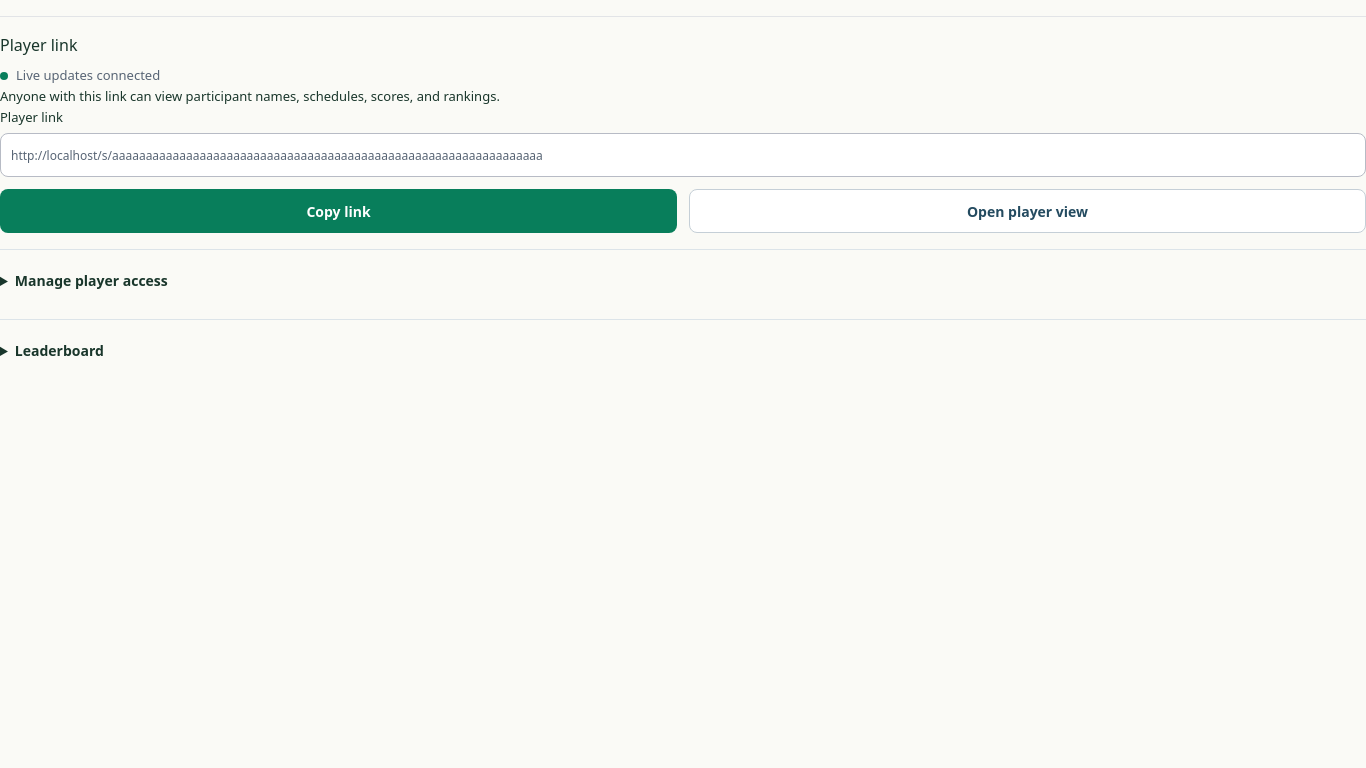
revocation requires confirmation and hides the old link after success
expect the link "Open player view" is shown: met, box top-left (689, 189), bottom-right (1365, 233)
Click the heading "Manage player access" at (91, 281), box top-left (15, 271), bottom-right (168, 290)
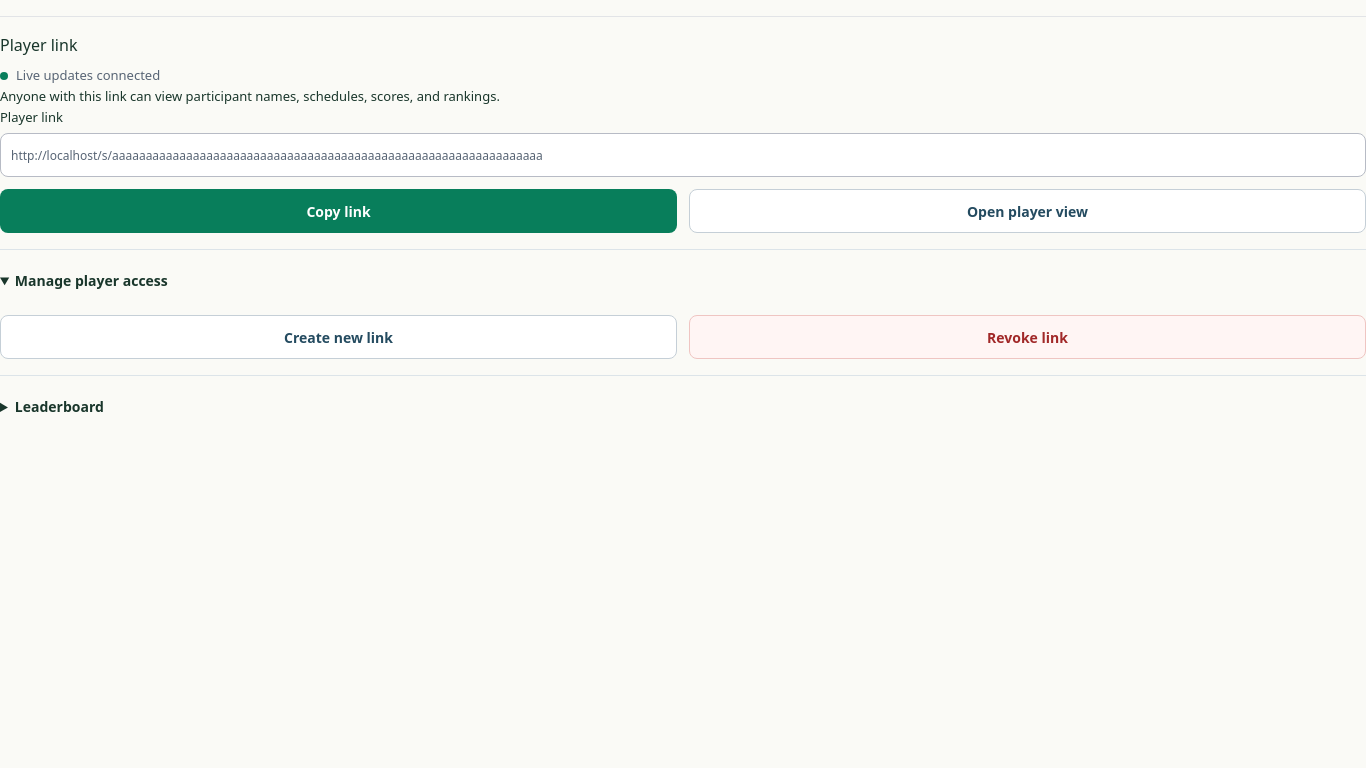
Click the button "Revoke link" at (1028, 337), box top-left (689, 315), bottom-right (1365, 359)
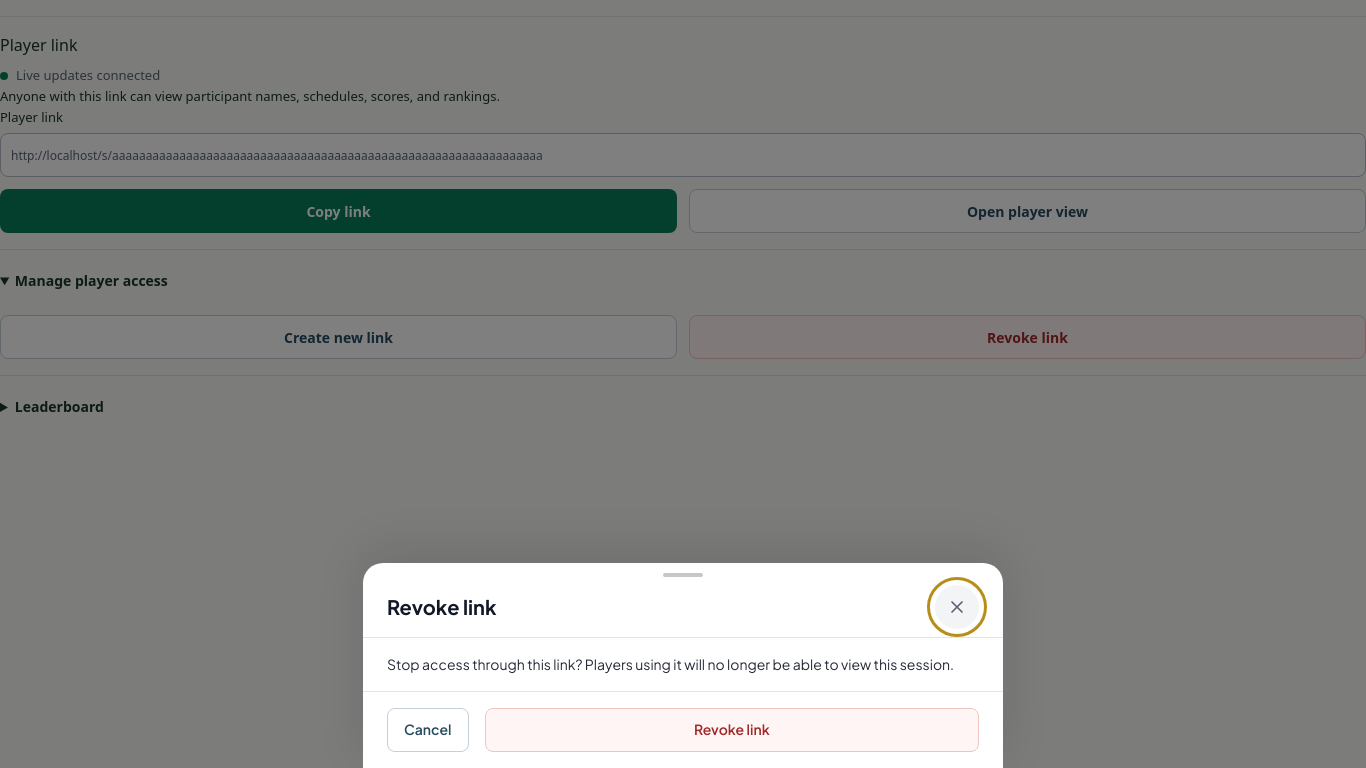
Click the button "Cancel" at (428, 730), box top-left (387, 708), bottom-right (468, 752)
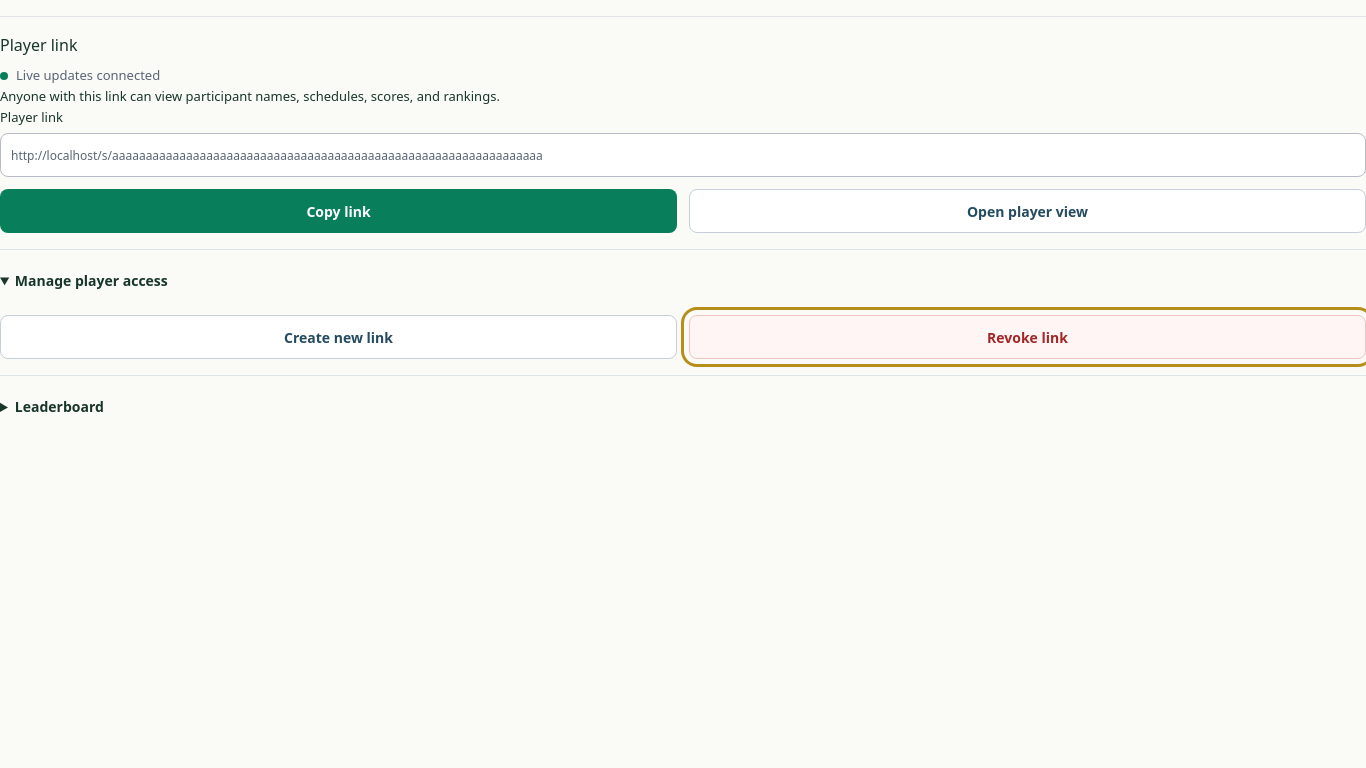
Click the button "Revoke link" at (1028, 337), box top-left (689, 315), bottom-right (1365, 359)
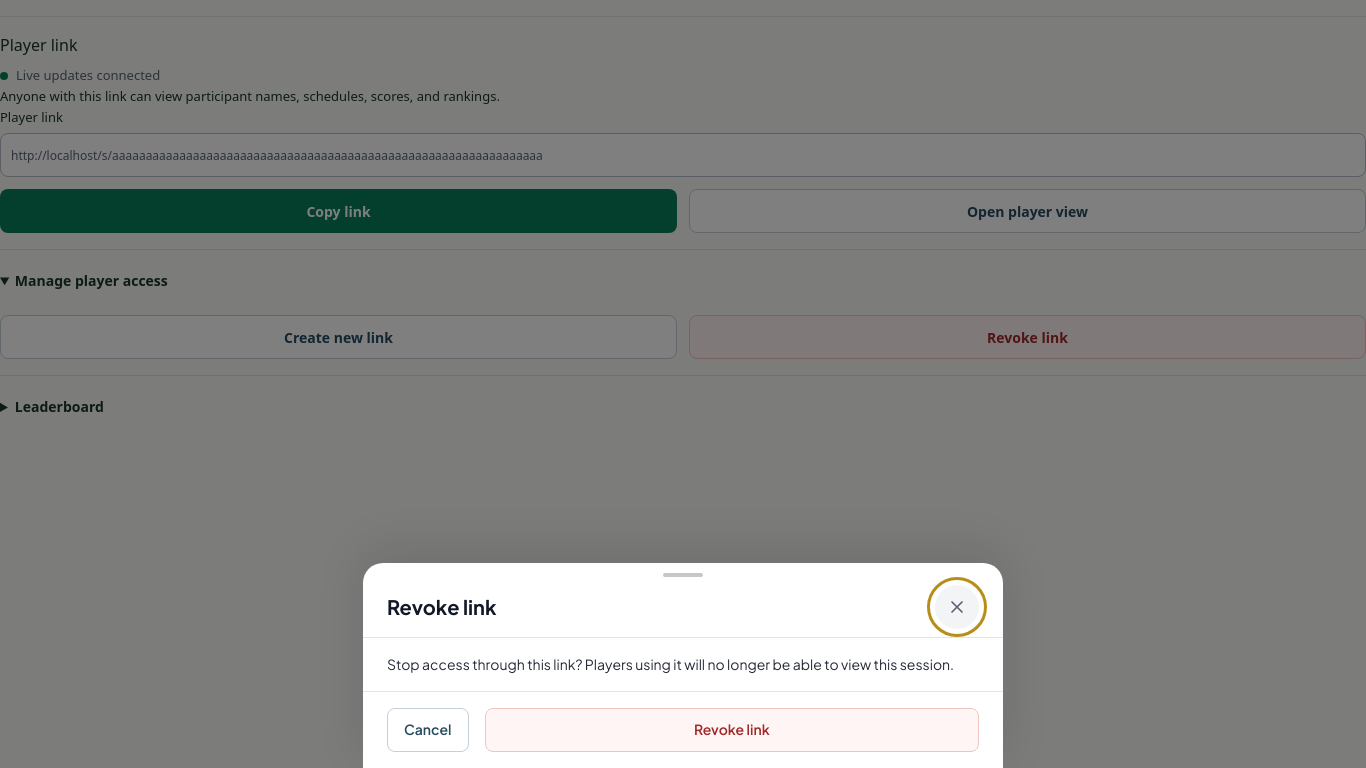
Click the button "Revoke link" at (732, 730), box top-left (484, 708), bottom-right (979, 752)
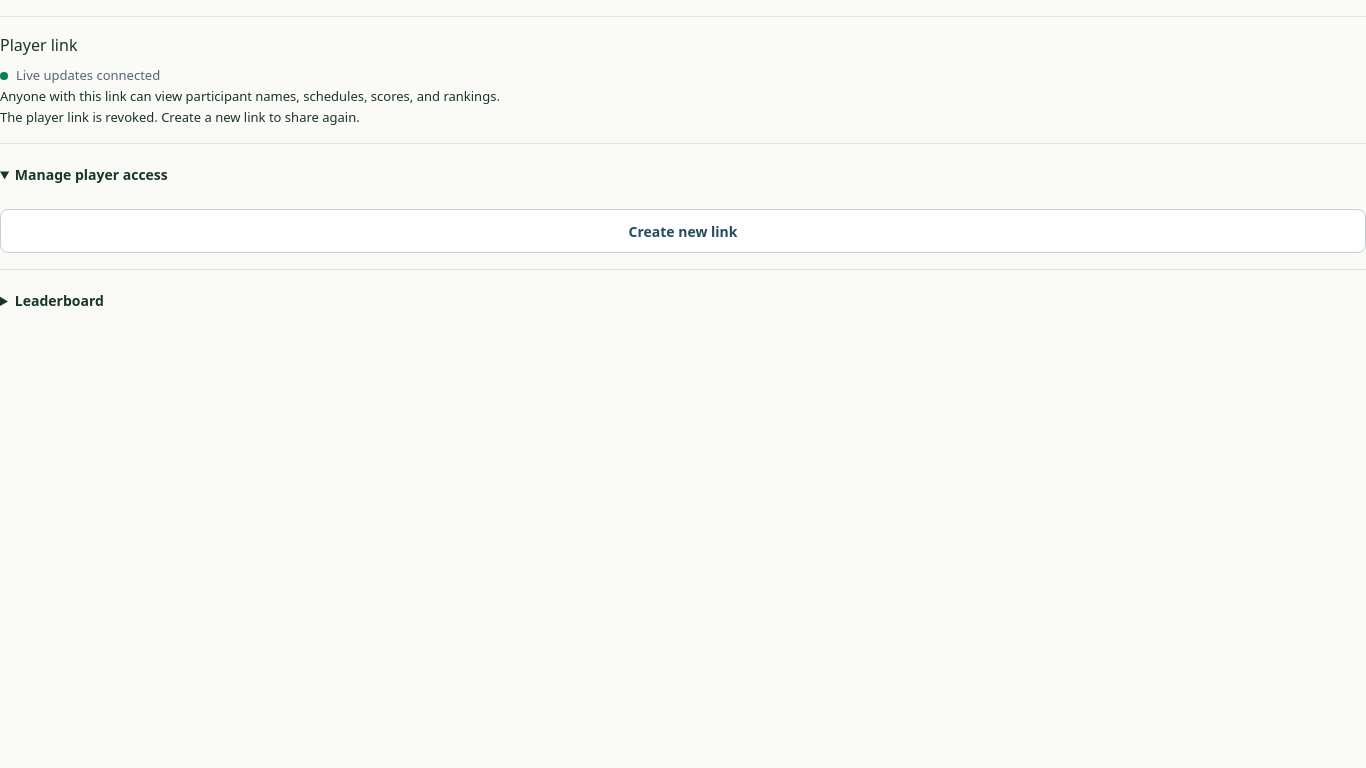
expect the text "The player link is revoked. Create a new link to share again." is shown: met, box top-left (0, 108), bottom-right (360, 126)
expect the link "Open player view" is gone: met
